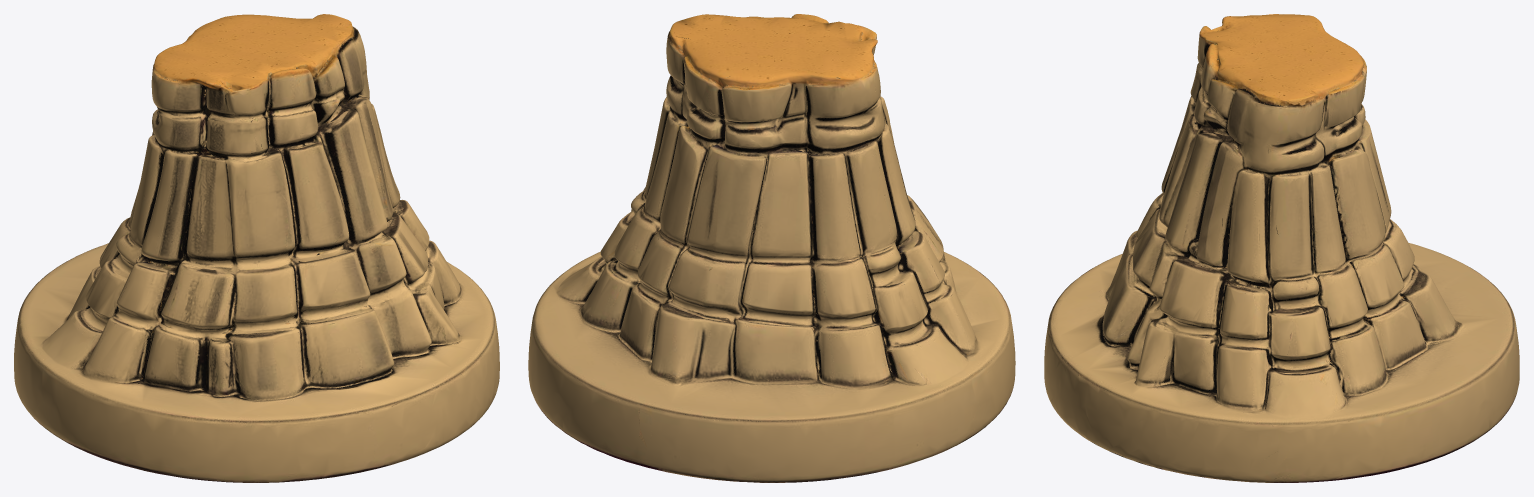
The model's file is devils_tower.glb.
The picture shows the model from 3 angles, left to right: view 1: azimuth 30°, elevation 25°; view 2: azimuth 150°, elevation 25°; view 3: azimuth 270°, elevation 25°; orthographic projection. The views are drawn at different scales.
Parts seen in each view (by area): view 1: Mesh_0; view 2: Mesh_0; view 3: Mesh_0.
Part boxes in pixels (x1,y1,x2,y2): Mesh_0: (14, 14, 499, 482); Mesh_0: (528, 14, 1015, 482); Mesh_0: (1044, 14, 1519, 482).
Size of the model in its own units: 1.9 by 1.47 by 1.9.
1 material, 1 textured.
